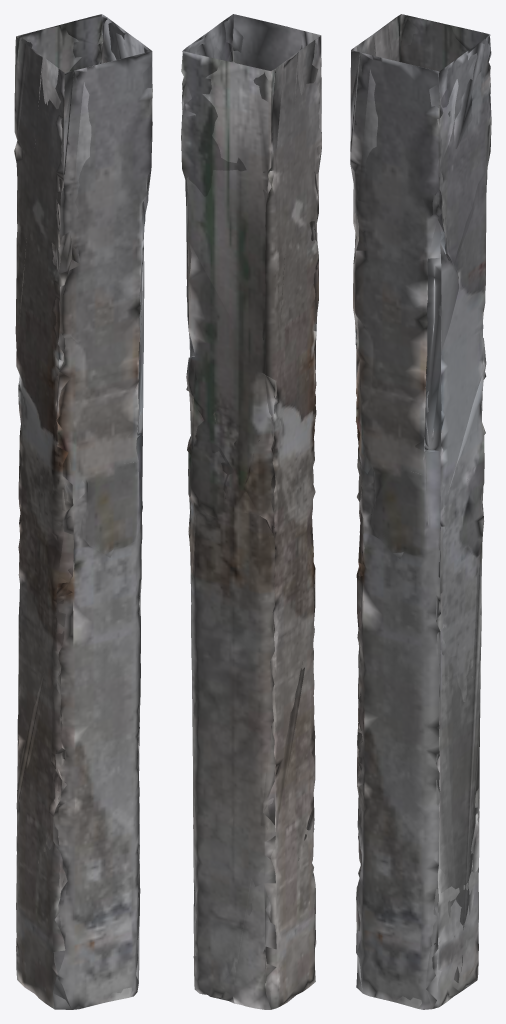
Rendered from pilier_beton.glb.
The picture shows the model from 3 angles, left to right: view 1: azimuth 30°, elevation 25°; view 2: azimuth 150°, elevation 25°; view 3: azimuth 330°, elevation 25°; orthographic projection.
Parts seen in each view (by area): view 1: Colonne; view 2: Colonne; view 3: Colonne.
Part boxes in pixels (x1,y1,x2,y2): Colonne: [14, 14, 152, 1009]; Colonne: [181, 14, 321, 1009]; Colonne: [350, 14, 491, 1009].
Bounding box in the file's own units: 0.2965 × 2.9 × 0.295.
Materials: 1 (1 with a texture image).
